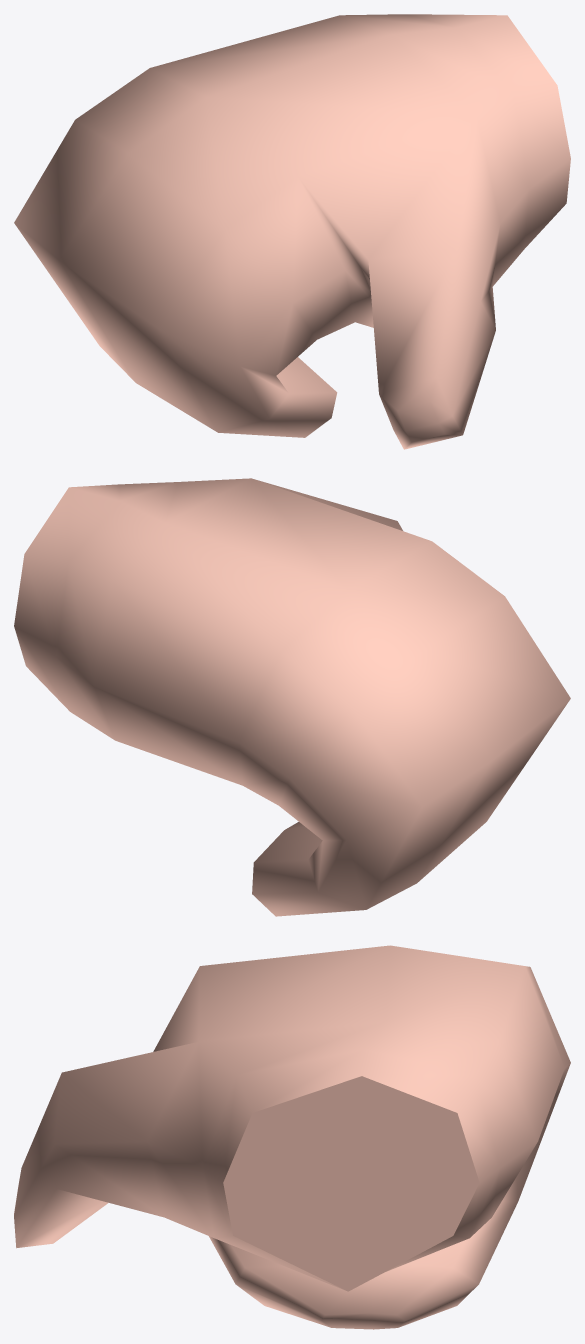
File: Hand_R.FBX
The picture shows the model from 3 angles, top to bottom: view 1: azimuth 30°, elevation 25°; view 2: azimuth 150°, elevation 25°; view 3: azimuth 270°, elevation 25°; orthographic projection. The views are drawn at different scales.
Visible parts, largest first — view 1: Hand_R; view 2: Hand_R; view 3: Hand_R.
Boxes of the visible parts, box(x1,y1,x2,y2) form: Hand_R: box(14, 14, 570, 449); Hand_R: box(14, 478, 570, 916); Hand_R: box(14, 945, 570, 1329).
Size of the model in its own units: 6.04 by 6.14 by 4.49.
